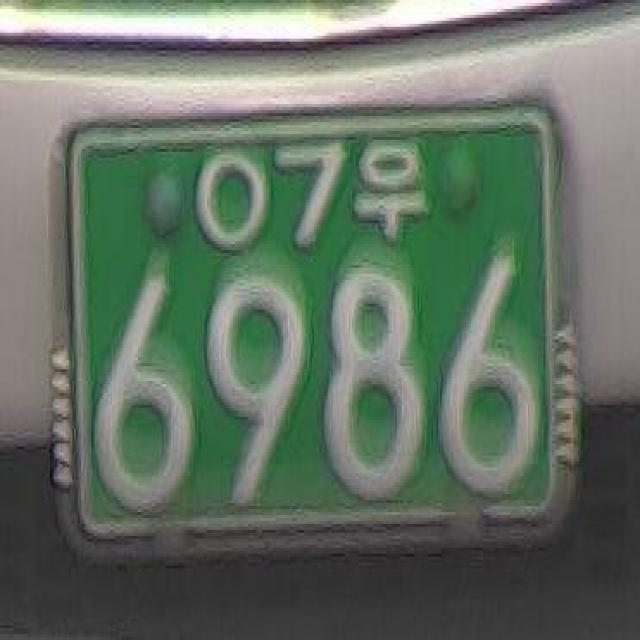illegal_plate: (48, 91, 583, 580)
